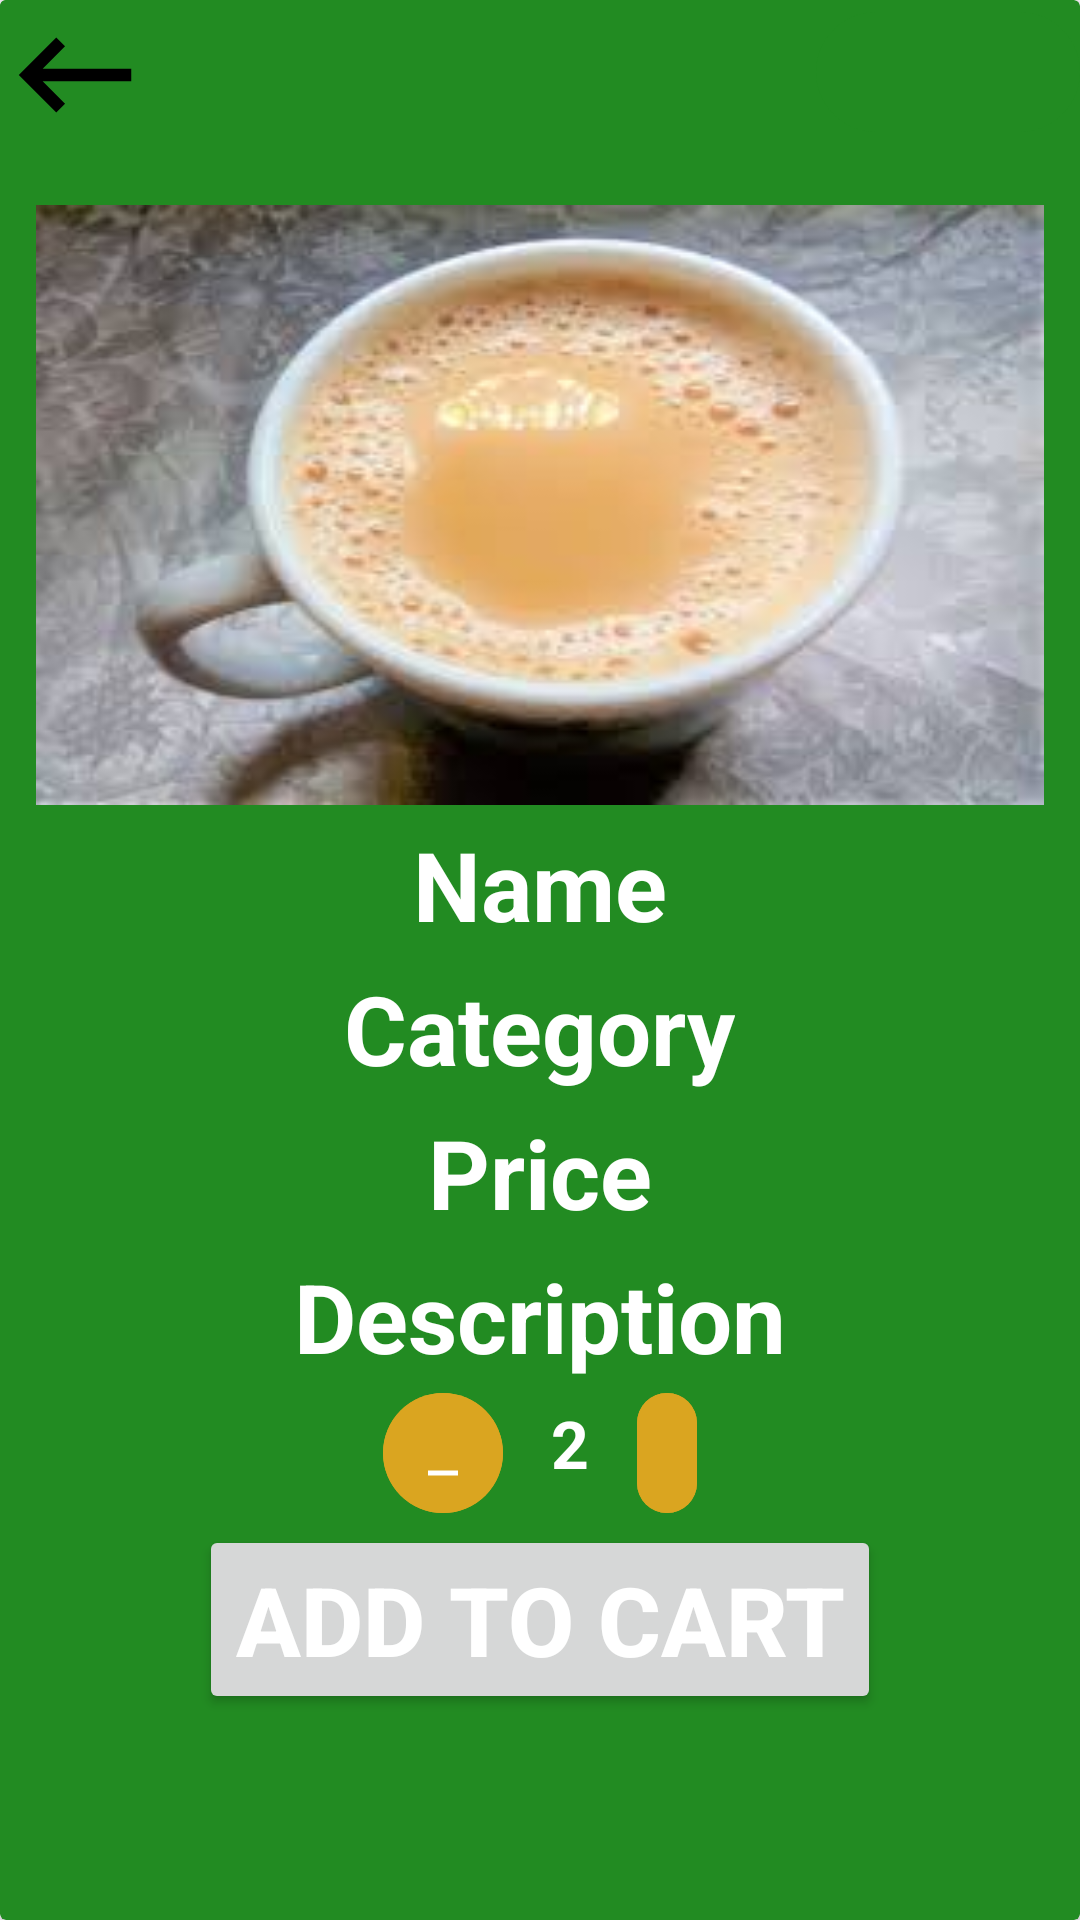

Screen size 1080×1920. Icon name, then its center in pixels as [x,y]:
back: [66,56]
minus: [443,1453]
